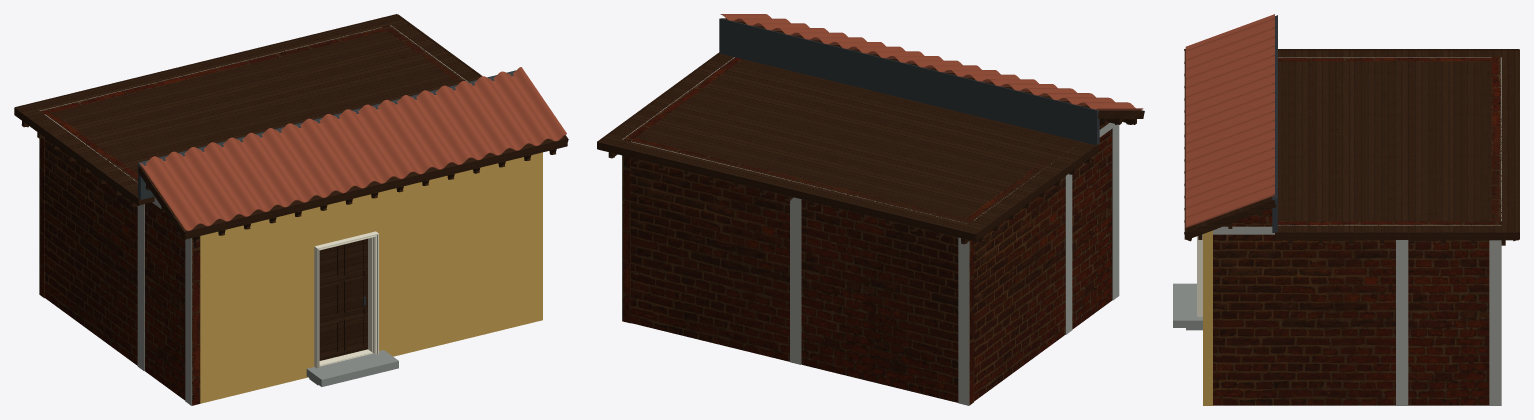
The model's file is building.glb.
The picture shows the model from 3 angles, left to right: view 1: azimuth 30°, elevation 25°; view 2: azimuth 150°, elevation 25°; view 3: azimuth 270°, elevation 25°; orthographic projection.
Visible parts, largest first — view 1: house:0/edge0/z0/house:0/edge0/z0/wall_0_0, roof_assembly/cubierta/roof_substrate#0002, house:0/edge3/z0/house:0/edge3/z0/wall_0_0, roof_assembly/cubierta/roof_fascia#0002, house:0/edge2/z0/house:0/edge2/z0/wall_0_0, site/entrance/0/entrance_step#0002, house:0/edge3/z0/house:0/edge3/z0/column_2_0, roof_assembly/cubierta/roof_fascia#0005, house:0/edge3/z0/house:0/edge3/z0/column_1_0, house:0/edge0/z0/opening_u2.80_v0.12/door_panel_back#0001, roof_assembly/cubierta/roof_substrate#0001, roof_assembly/cubierta/roof_abutment#0001 (+12 smaller); view 2: house:0/edge2/z0/house:0/edge2/z0/wall_0_0, roof_assembly/cubierta/roof_substrate#0002, house:0/edge3/z0/house:0/edge3/z0/wall_0_0, roof_assembly/cubierta/roof_abutment#0001, roof_assembly/cubierta/roof_fascia#0004, house:0/edge1/z0/house:0/edge1/z0/wall_0_0, house:0/edge2/z0/house:0/edge2/z0/column_2_0, house:0/edge2/z0/house:0/edge2/z0/column_1_0, house:0/edge3/z0/house:0/edge3/z0/column_1_0, house:0/edge3/z0/house:0/edge3/z0/column_2_0, roof_assembly/cubierta/roof_fascia#0005; view 3: house:0/edge1/z0/house:0/edge1/z0/wall_0_0, roof_assembly/cubierta/roof_substrate#0002, house:0/edge1/z0/house:0/edge1/z0/column_1_0, house:0/edge1/z0/house:0/edge1/z0/column_2_0, roof_assembly/cubierta/roof_fascia#0006, house:0/edge0/z0/house:0/edge0/z0/wall_0_0, house:0/edge2/z0/house:0/edge2/z0/wall_0_0, site/entrance/0/entrance_step#0002, house:0/edge3/z0/house:0/edge3/z0/wall_0_0, roof_assembly/cubierta/roof_fascia#0003, roof_assembly/cubierta/roof_abutment#0001, house:0/edge1/z0/house:0/edge1/z0/beam_0_0 (+6 smaller).
Boxes of the visible parts, x1=… form: house:0/edge0/z0/house:0/edge0/z0/wall_0_0: x1=200, y1=152, x2=542, y2=403; roof_assembly/cubierta/roof_substrate#0002: x1=17, y1=15, x2=480, y2=204; house:0/edge3/z0/house:0/edge3/z0/wall_0_0: x1=45, y1=113, x2=200, y2=405; roof_assembly/cubierta/roof_fascia#0002: x1=185, y1=138, x2=567, y2=239; house:0/edge2/z0/house:0/edge2/z0/wall_0_0: x1=39, y1=27, x2=385, y2=298; site/entrance/0/entrance_step#0002: x1=306, y1=350, x2=398, y2=386; house:0/edge3/z0/house:0/edge3/z0/column_2_0: x1=137, y1=204, x2=144, y2=370; roof_assembly/cubierta/roof_fascia#0005: x1=14, y1=107, x2=139, y2=205; house:0/edge3/z0/house:0/edge3/z0/column_1_0: x1=185, y1=238, x2=192, y2=405; house:0/edge0/z0/opening_u2.80_v0.12/door_panel_back#0001: x1=319, y1=244, x2=363, y2=351; roof_assembly/cubierta/roof_substrate#0001: x1=142, y1=136, x2=565, y2=238; roof_assembly/cubierta/roof_abutment#0001: x1=138, y1=70, x2=515, y2=199; house:0/edge2/z0/house:0/edge2/z0/wall_0_0: x1=631, y1=138, x2=973, y2=405; roof_assembly/cubierta/roof_substrate#0002: x1=600, y1=53, x2=1095, y2=233; house:0/edge3/z0/house:0/edge3/z0/wall_0_0: x1=965, y1=129, x2=1112, y2=401; roof_assembly/cubierta/roof_abutment#0001: x1=719, y1=18, x2=1099, y2=144; roof_assembly/cubierta/roof_fascia#0004: x1=597, y1=141, x2=975, y2=241; house:0/edge1/z0/house:0/edge1/z0/wall_0_0: x1=622, y1=57, x2=742, y2=323; house:0/edge2/z0/house:0/edge2/z0/column_2_0: x1=790, y1=197, x2=801, y2=364; house:0/edge2/z0/house:0/edge2/z0/column_1_0: x1=958, y1=237, x2=969, y2=405; house:0/edge3/z0/house:0/edge3/z0/column_1_0: x1=1112, y1=124, x2=1119, y2=300; house:0/edge3/z0/house:0/edge3/z0/column_2_0: x1=1065, y1=174, x2=1072, y2=334; roof_assembly/cubierta/roof_fascia#0005: x1=975, y1=144, x2=1098, y2=241; house:0/edge1/z0/house:0/edge1/z0/wall_0_0: x1=1213, y1=221, x2=1501, y2=405; roof_assembly/cubierta/roof_substrate#0002: x1=1278, y1=50, x2=1518, y2=231; house:0/edge1/z0/house:0/edge1/z0/column_1_0: x1=1489, y1=240, x2=1501, y2=405; house:0/edge1/z0/house:0/edge1/z0/column_2_0: x1=1396, y1=240, x2=1408, y2=405; roof_assembly/cubierta/roof_fascia#0006: x1=1275, y1=232, x2=1518, y2=239; house:0/edge0/z0/house:0/edge0/z0/wall_0_0: x1=1203, y1=230, x2=1212, y2=405; house:0/edge2/z0/house:0/edge2/z0/wall_0_0: x1=1491, y1=57, x2=1500, y2=221; site/entrance/0/entrance_step#0002: x1=1173, y1=283, x2=1202, y2=327; house:0/edge3/z0/house:0/edge3/z0/wall_0_0: x1=1278, y1=57, x2=1491, y2=61; roof_assembly/cubierta/roof_fascia#0003: x1=1184, y1=200, x2=1276, y2=239; roof_assembly/cubierta/roof_abutment#0001: x1=1272, y1=15, x2=1277, y2=232; house:0/edge1/z0/house:0/edge1/z0/beam_0_0: x1=1213, y1=225, x2=1501, y2=234.
Size of the model in its own units: 8.74 by 4.89 by 6.97.
Materials: 8 (2 with a texture image).
